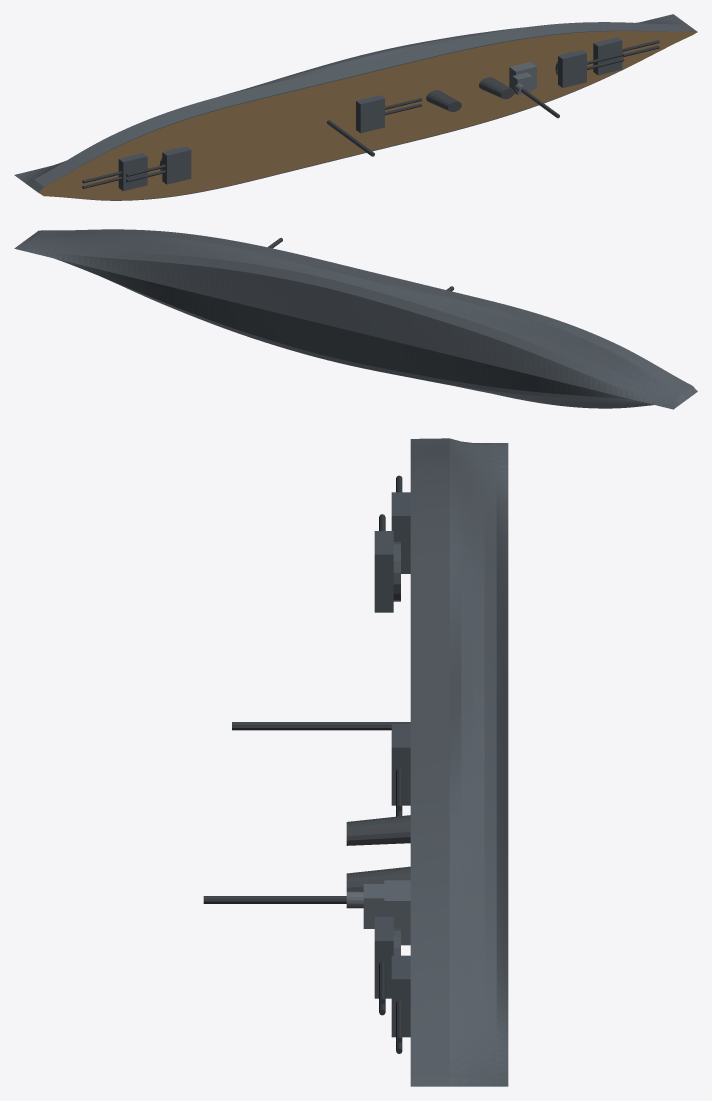
File: B-C_Amagi.obj
The picture shows the model from 3 angles, top to bottom: view 1: azimuth 30°, elevation 25°; view 2: azimuth 150°, elevation 25°; view 3: azimuth 270°, elevation 25°; orthographic projection. The views are drawn at different scales.
Bounding box in the file's own units: 247 × 31.34 × 49.38.
